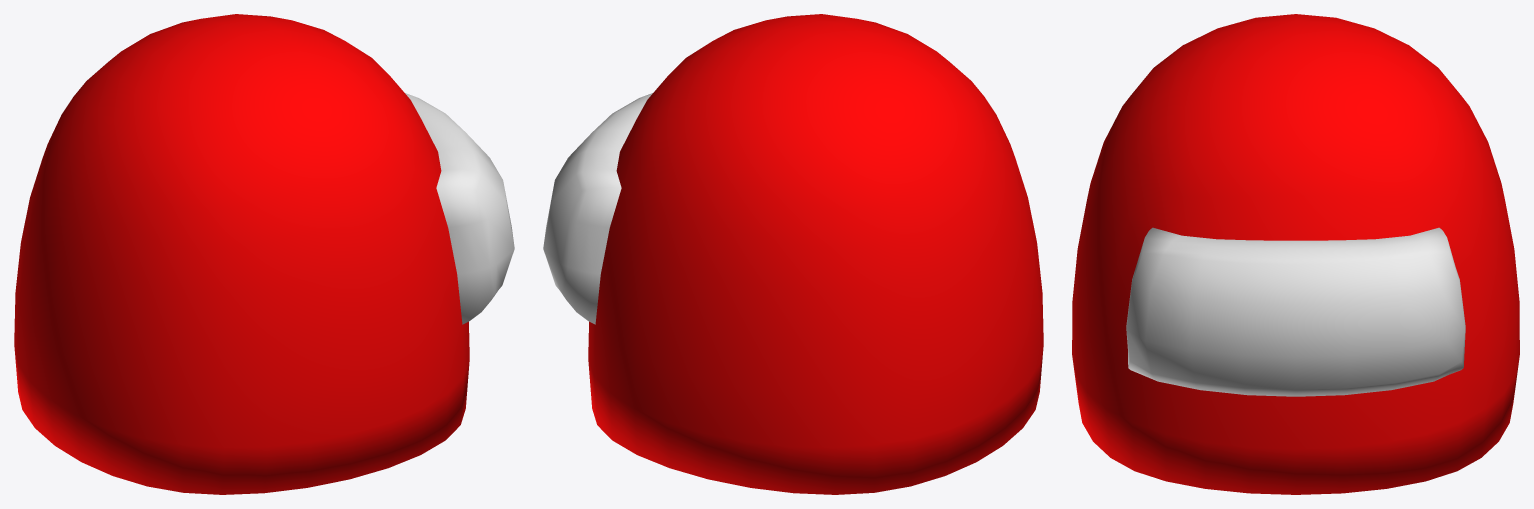
File: amogus.fbx
3 views of the same model, side by side, from view 1: azimuth 30°, elevation 25°; view 2: azimuth 150°, elevation 25°; view 3: azimuth 270°, elevation 25° (orthographic).
Visible parts, largest first — view 1: Cube; view 2: Cube; view 3: Cube.
Part boxes in pixels (x1,y1,x2,y2): Cube: (14,14,514,494); Cube: (543,14,1043,494); Cube: (1072,14,1519,494).
Bounding box in the file's own units: 199 × 163 × 180.
